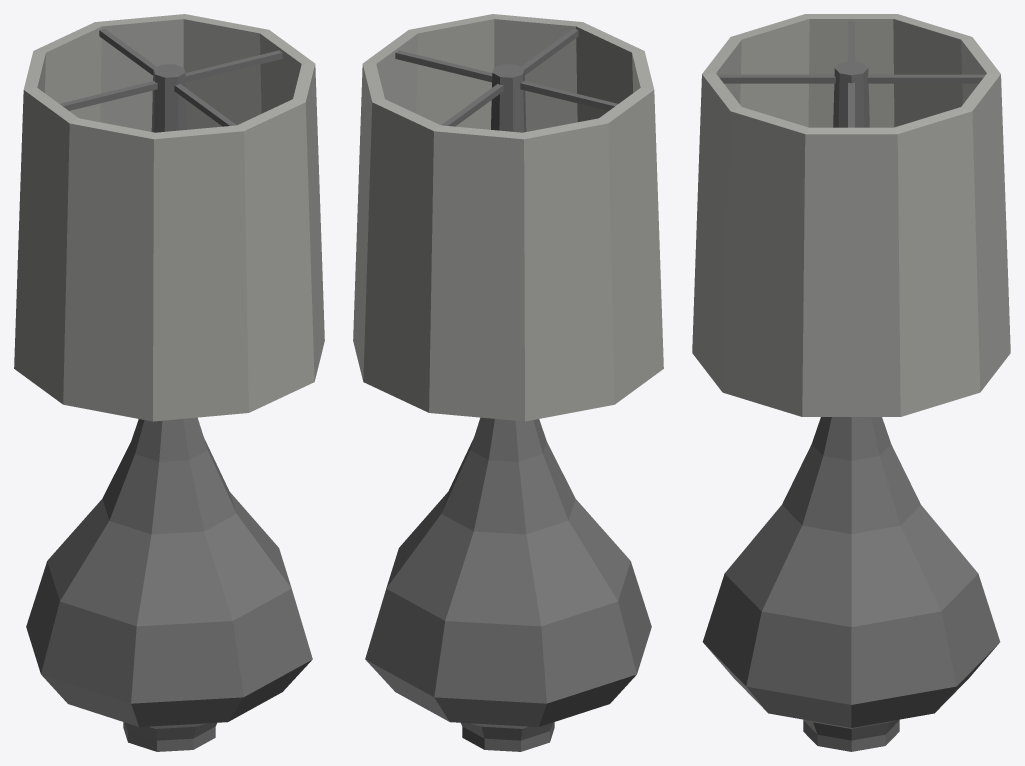
File: floor_lamp.fbx
The picture shows the model from 3 angles, left to right: view 1: azimuth 30°, elevation 25°; view 2: azimuth 150°, elevation 25°; view 3: azimuth 270°, elevation 25°; orthographic projection.
Visible parts, largest first — view 1: floor_lamp_LOD0; view 2: floor_lamp_LOD0; view 3: floor_lamp_LOD0.
Boxes of the visible parts, left/top/right/bottom form: floor_lamp_LOD0: left=14, top=14, right=324, bottom=751; floor_lamp_LOD0: left=353, top=14, right=663, bottom=751; floor_lamp_LOD0: left=692, top=14, right=1010, bottom=751.
Size of what is drawn, in the model's own units: 0.7038 by 1.7 by 0.7401.
Materials: 1 (1 with a texture image).
